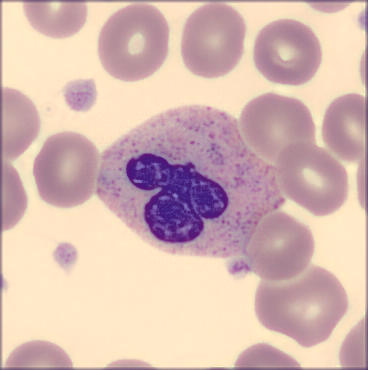WBC: (99, 103, 290, 255)
